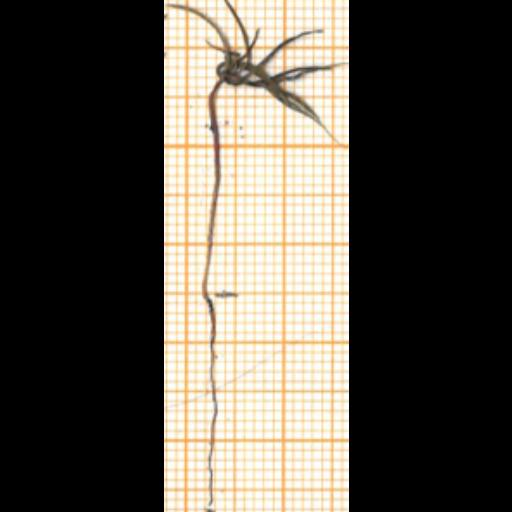flowerPinus: (215, 0, 319, 124)
rootPinus: (205, 309, 218, 510)
stemPinus: (203, 79, 220, 298)
